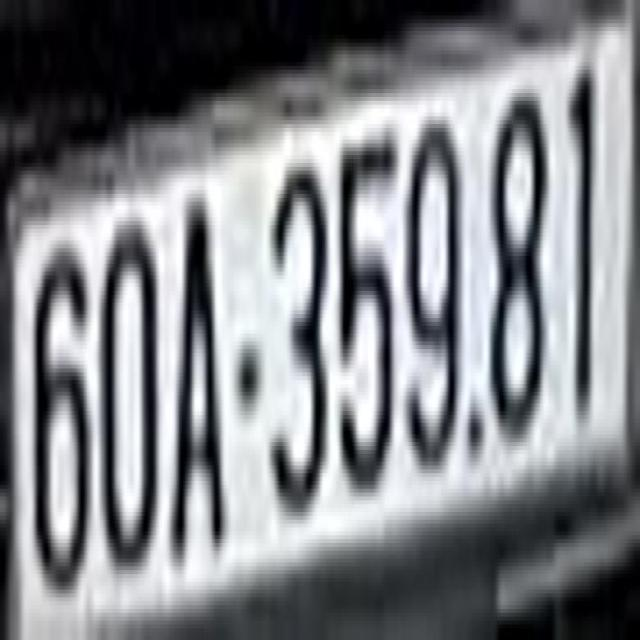0: (99, 213, 158, 562)
1: (563, 54, 596, 414)
3: (272, 155, 328, 520)
5: (338, 132, 393, 504)
6: (33, 229, 87, 586)
8: (492, 97, 542, 450)
9: (406, 124, 458, 489)
A: (168, 198, 226, 543)
